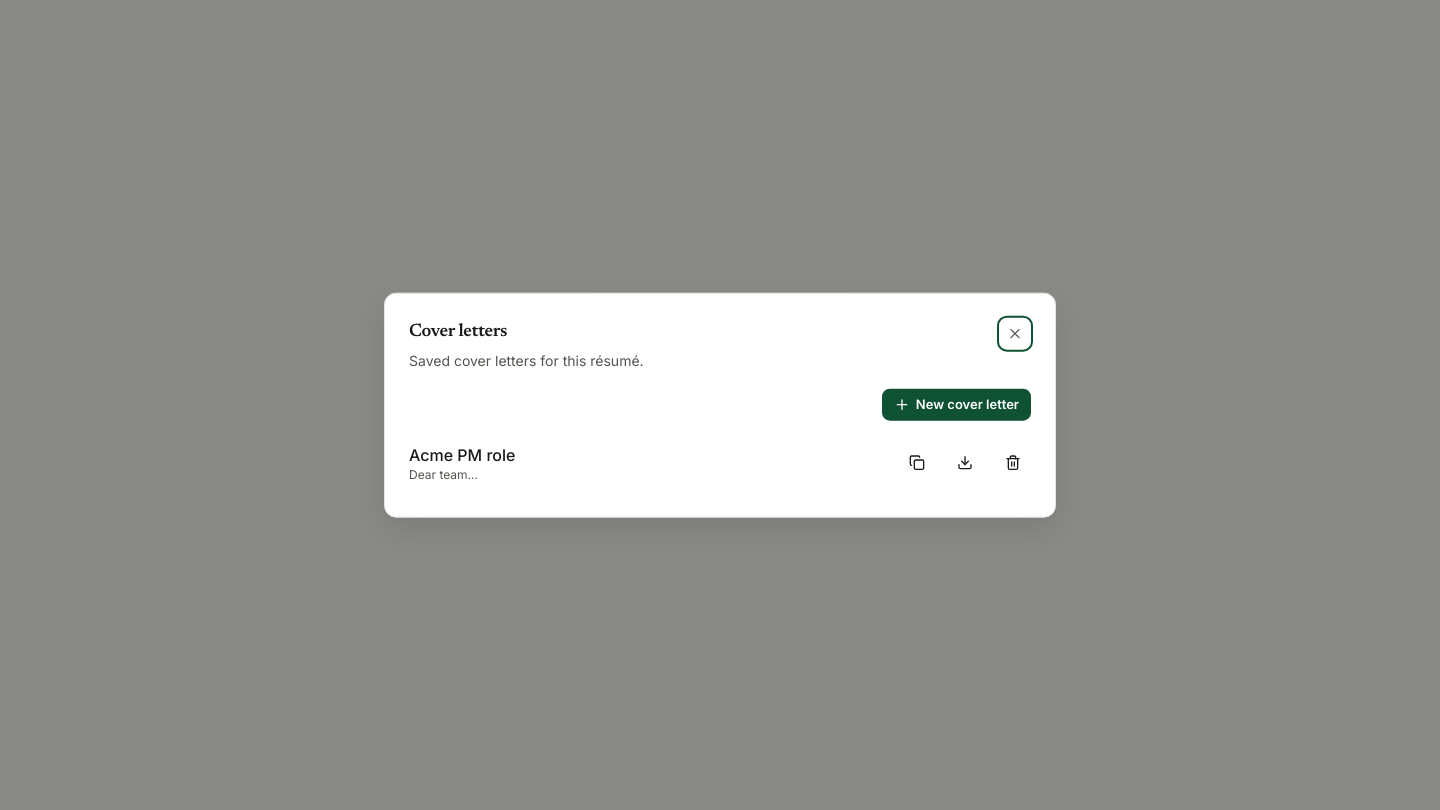
Scenario: CoverLettersModal › keeps the dialog open with an error when the delete fails
The width and height of the screenshot is (1440, 810).
Click the button named "Delete Acme PM role" at (1013, 462), box [995,444,1031,480]
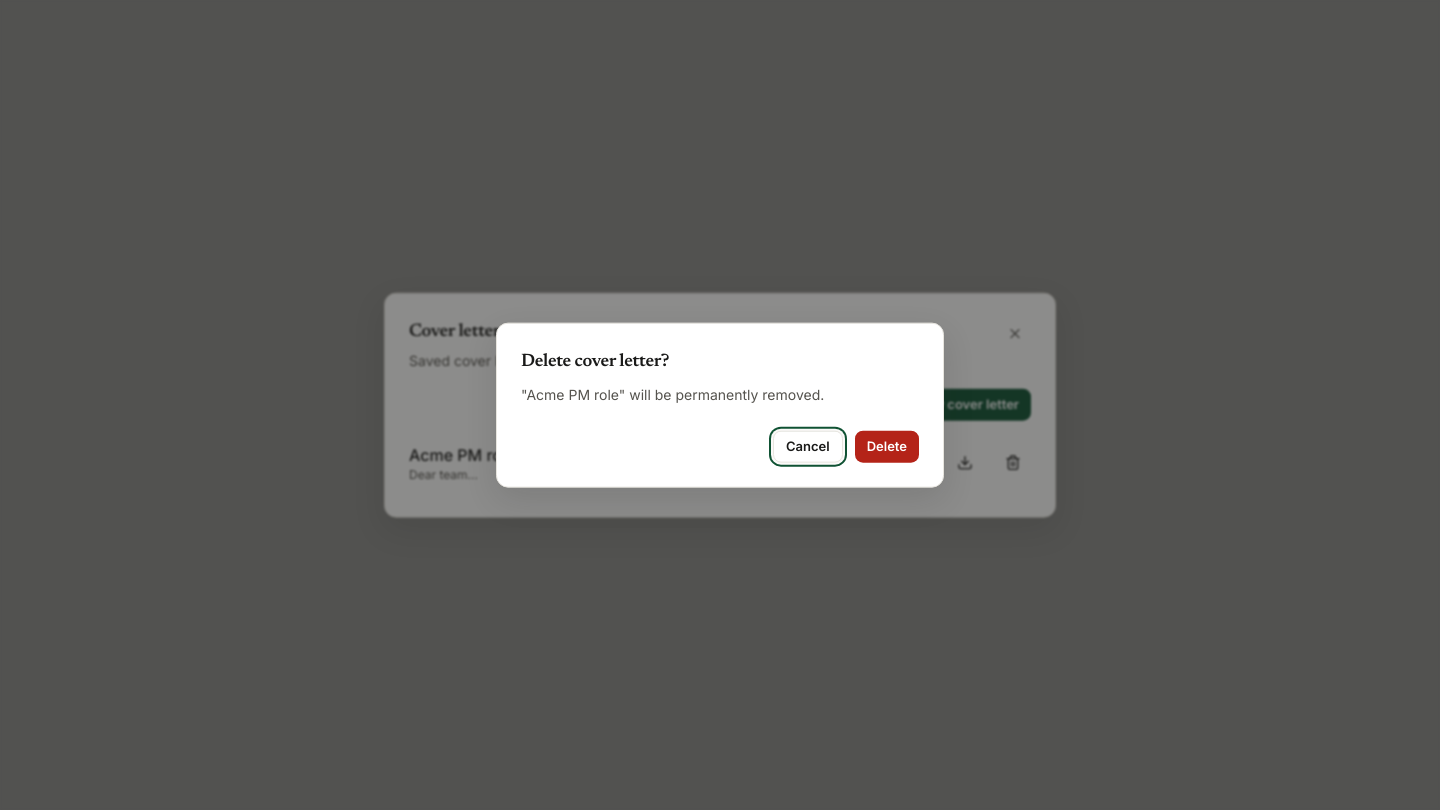
Click the button "Delete" at (887, 446), box [855,430,919,462]
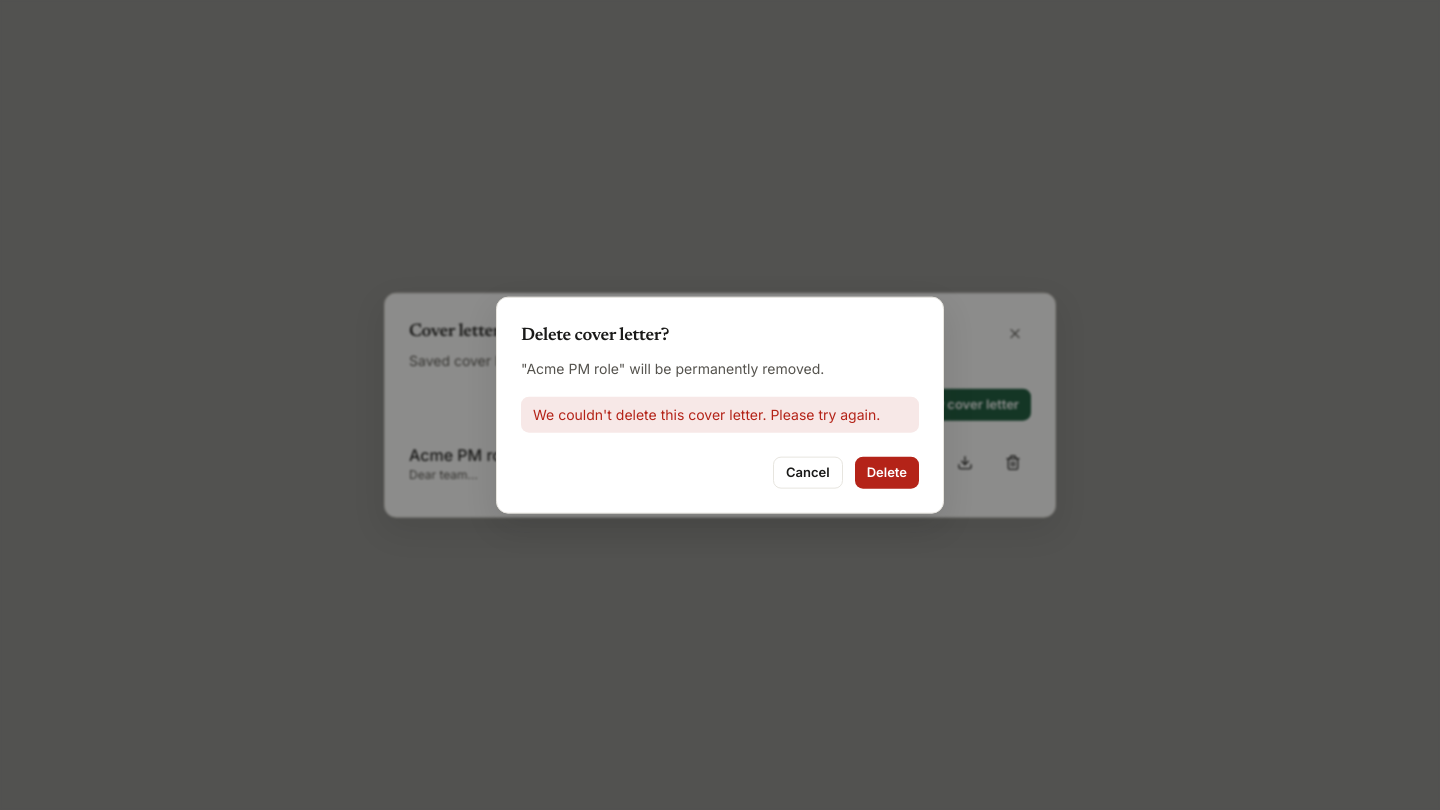
Result: the dialog "Delete cover letter?" is shown at [496,297,944,513]
Result: the button "Delete" is enabled at [855,456,919,488]
Result: the message reads "We couldn't delete this cover letter. Please try again." at [533,405,880,422]
